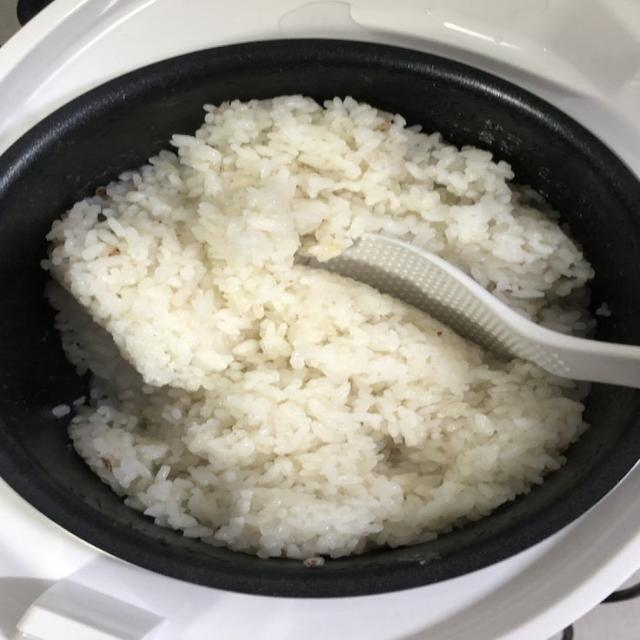rice: (45, 96, 592, 558)
